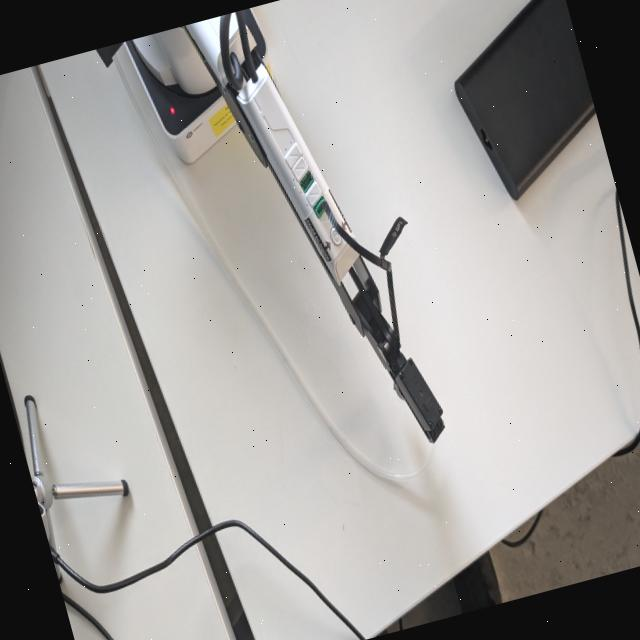Robot-end-effector-HF8z: (383, 346, 454, 452)
